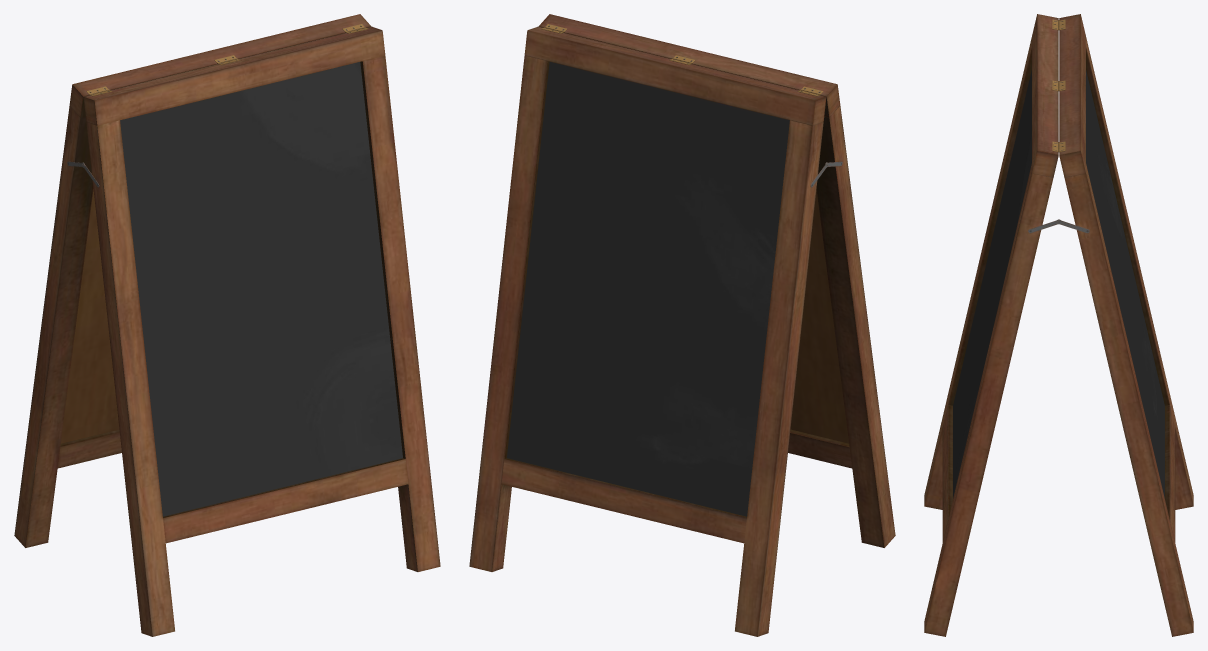
File: standing_chalkboard_01.glb
3 renders of one model, left to right at view 1: azimuth 30°, elevation 25°; view 2: azimuth 150°, elevation 25°; view 3: azimuth 270°, elevation 25°, orthographic. The views are drawn at different scales.
Parts seen in each view (by area): view 1: standing_chalkboard_01; view 2: standing_chalkboard_01; view 3: standing_chalkboard_01.
Part boxes in pixels (x1,y1,x2,y2): standing_chalkboard_01: (14, 14, 440, 636); standing_chalkboard_01: (469, 14, 895, 636); standing_chalkboard_01: (924, 14, 1193, 636).
Bounding box in the file's own units: 0.9195 × 1.51 × 0.7587.
Materials: 2 (2 with a texture image).
